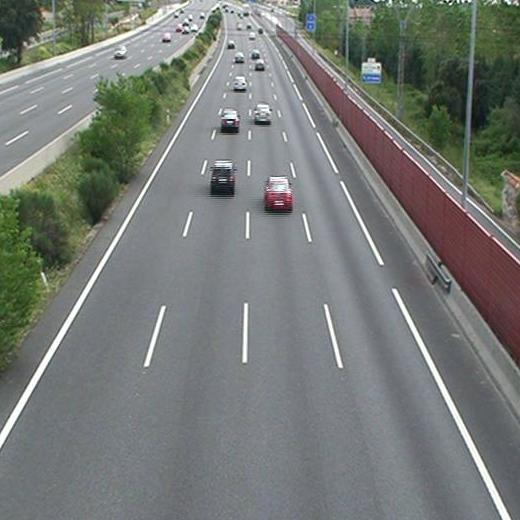car: (266, 177, 293, 207), (211, 161, 234, 188), (221, 110, 238, 127), (253, 105, 271, 121), (233, 77, 247, 89), (254, 61, 266, 70), (234, 53, 245, 62), (251, 50, 261, 58)
